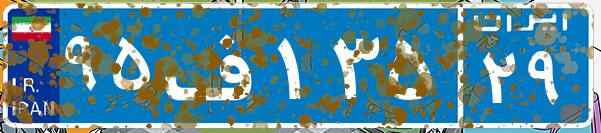1: (273, 28, 330, 110)
2: (475, 38, 525, 113)
3: (330, 28, 385, 110)
5: (385, 28, 445, 110), (110, 28, 158, 105)
9: (57, 26, 110, 107), (525, 38, 570, 115)
ف: (158, 15, 273, 115)
